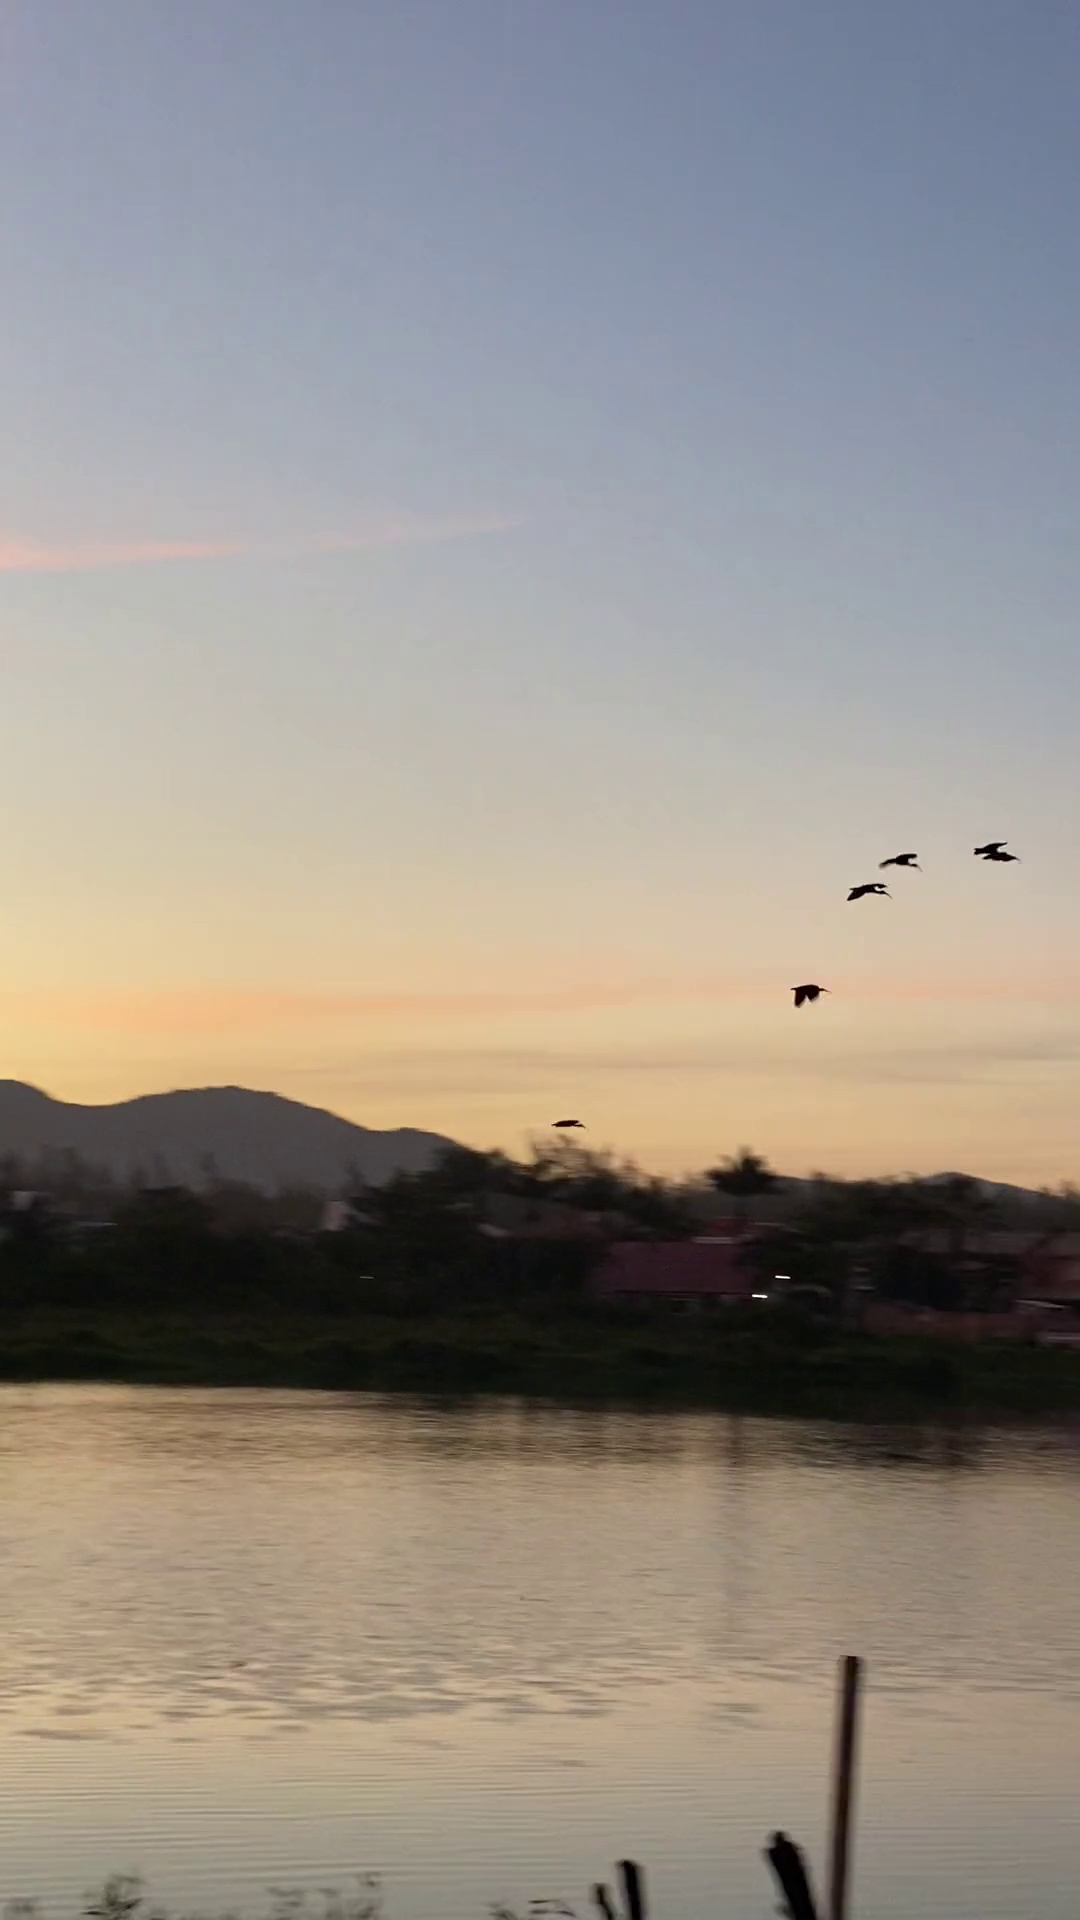bird: (789, 982, 831, 1007), (847, 881, 893, 899), (877, 851, 922, 869), (982, 851, 1021, 862), (972, 843, 1007, 855), (553, 1118, 585, 1127)
